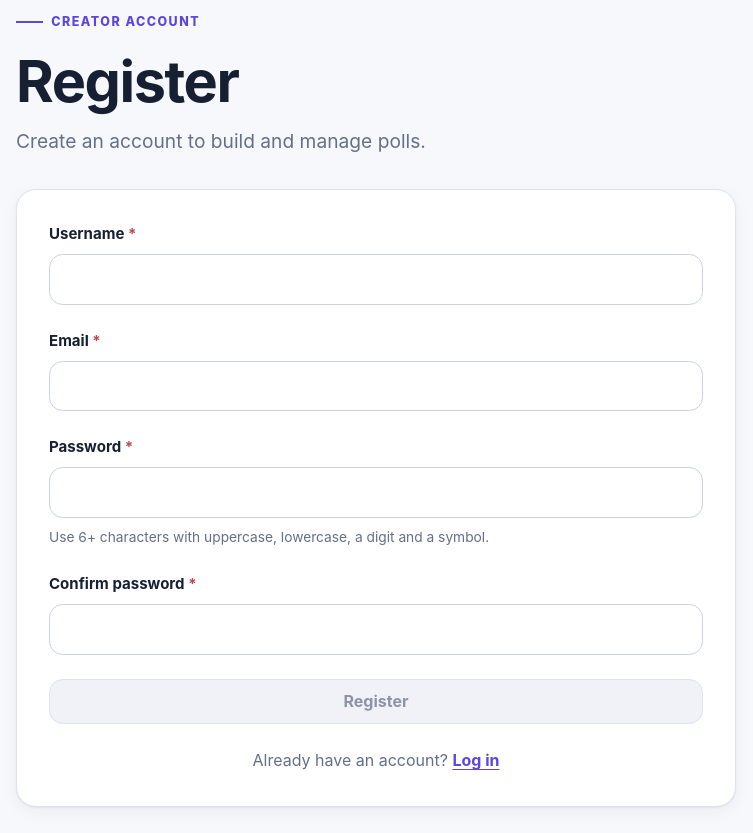
Test case: RegisterView › enforces the ASP.NET Identity password rules and matching confirmation
Type "NewCreator" into the field with id "register-username".
click(376, 279); type("NewCreator")  # box [49,254,703,305]
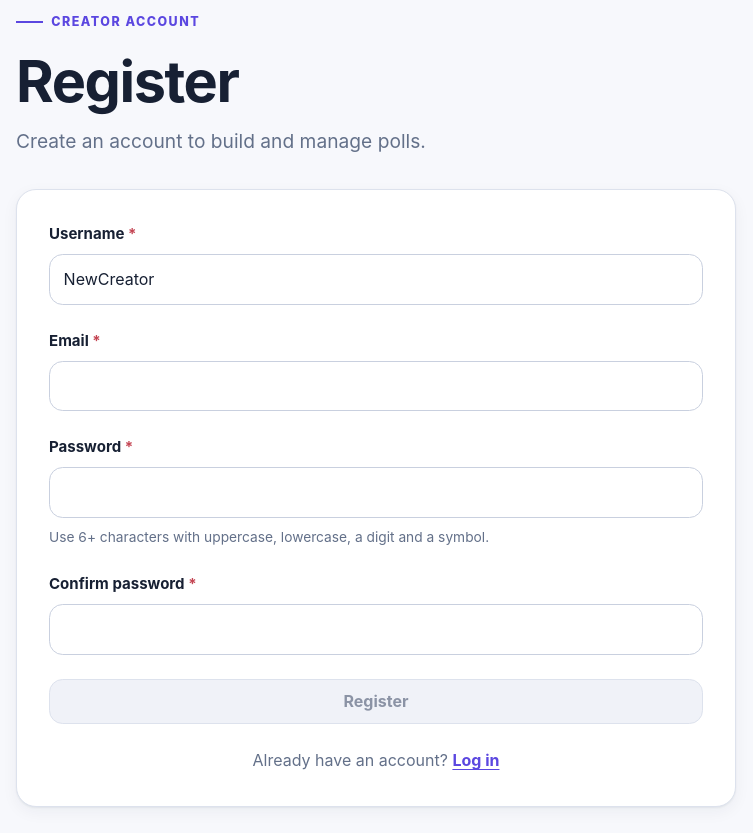
Type "new@example.com" into the field with id "register-email".
click(376, 386); type("new@example.com")  # box [49,361,703,411]
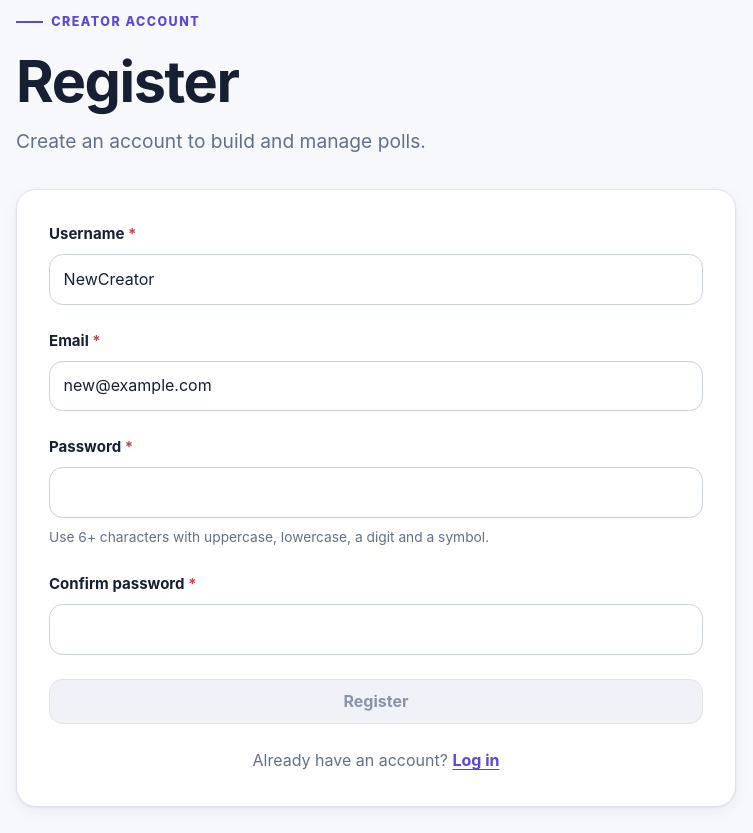
Type "simple" into the password field with id "register-password".
click(376, 493); type("simple")  # box [49,467,703,518]
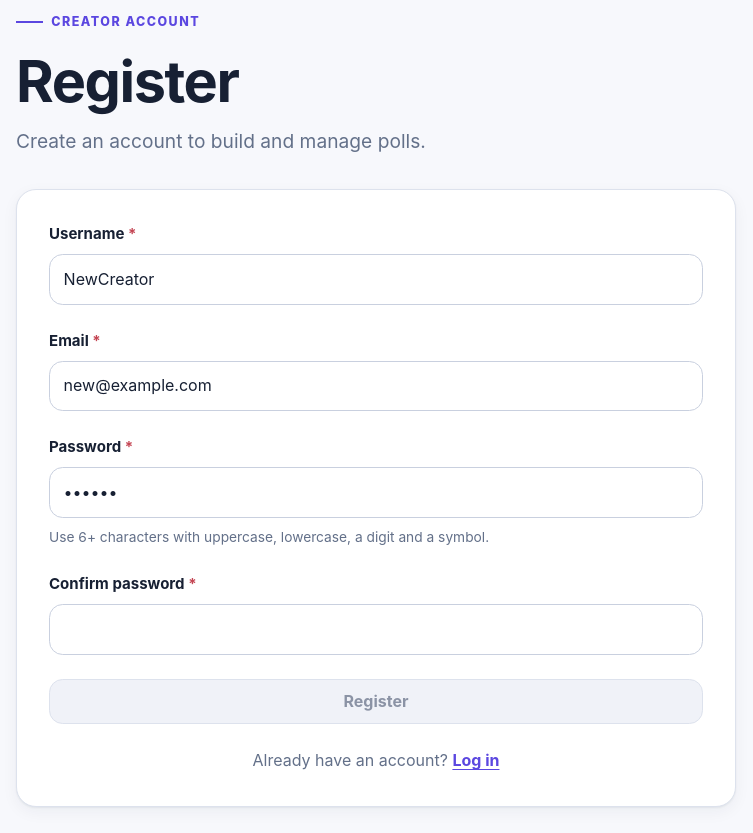
Type "different" into the password field with id "register-confirm-password".
click(376, 629); type("different")  # box [49,604,703,655]
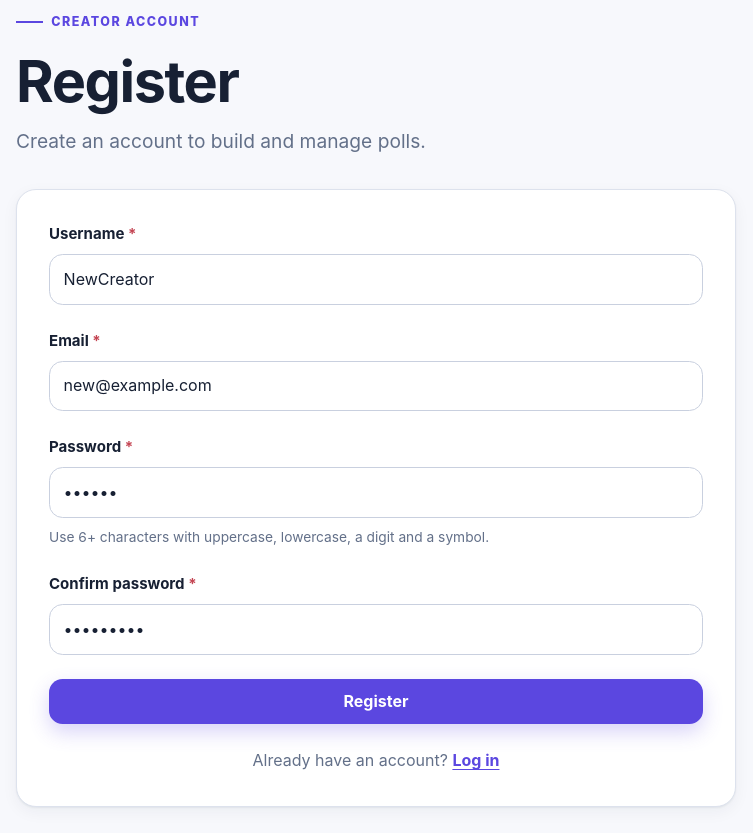
Submit the form
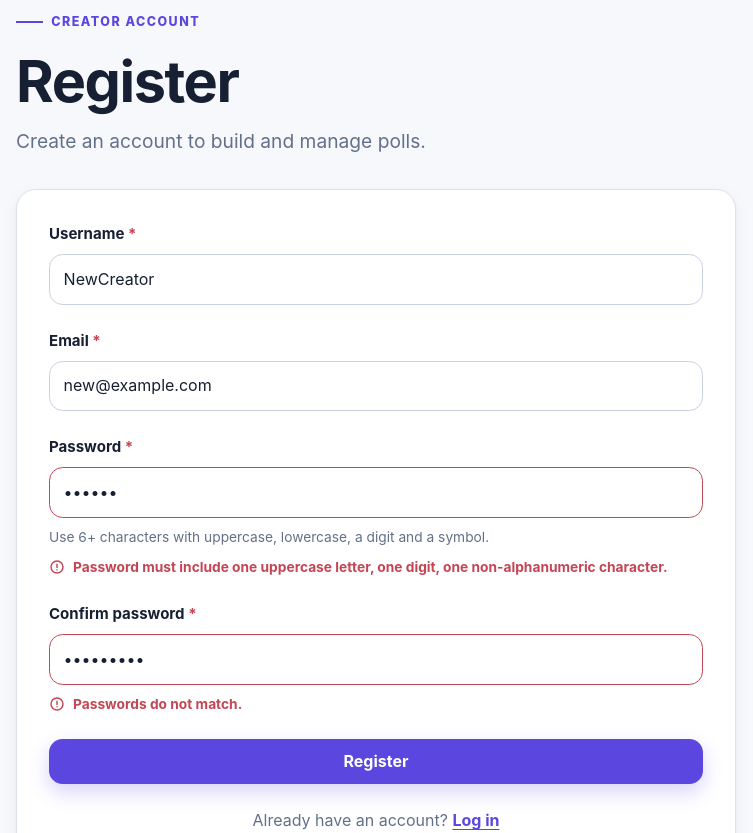
Result: the text "one uppercase letter" is shown at [73,559,668,575]
Result: the text "one digit" is shown at [73,559,668,575]
Result: the text "one non-alphanumeric character" is shown at [73,559,668,575]
